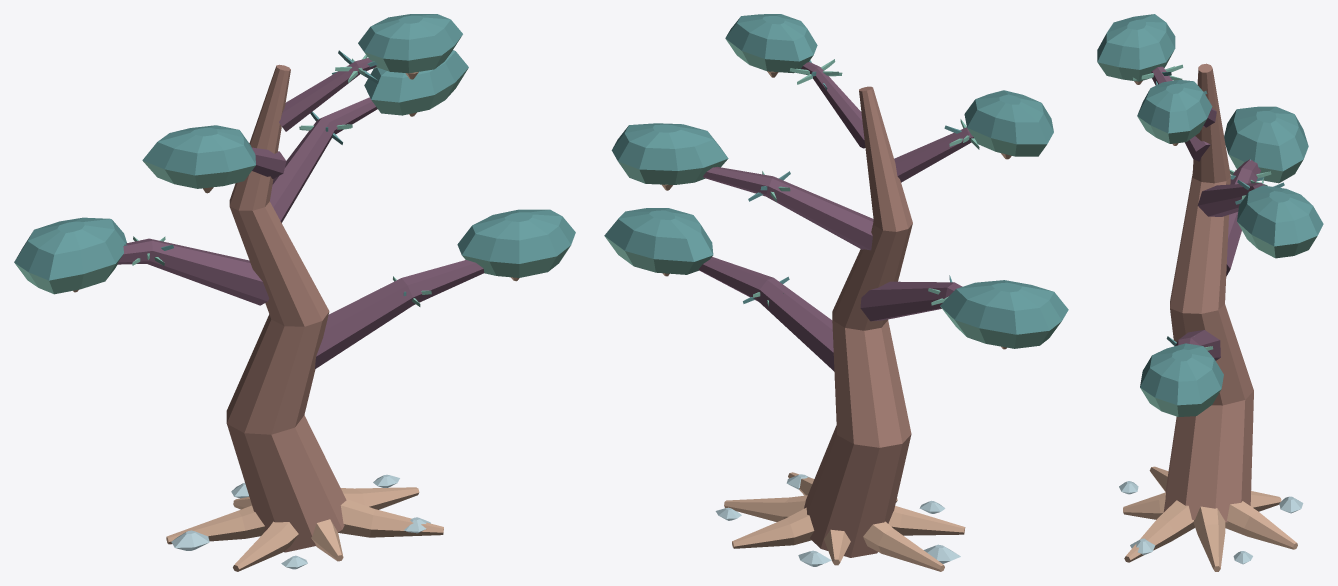
The model's file is lagoon_tree_shore_pine.glb.
The picture shows the model from 3 angles, left to right: view 1: azimuth 30°, elevation 25°; view 2: azimuth 150°, elevation 25°; view 3: azimuth 270°, elevation 25°; orthographic projection. The views are drawn at different scales.
Parts seen in each view (by area): view 1: lagoon_tree_shore_pine.001; view 2: lagoon_tree_shore_pine.001; view 3: lagoon_tree_shore_pine.001.
Part boxes in pixels (x1,y1,x2,y2): lagoon_tree_shore_pine.001: (14,14,575,571); lagoon_tree_shore_pine.001: (604,14,1068,571); lagoon_tree_shore_pine.001: (1097,14,1323,571).
Bounding box in the file's own units: 7.61 × 7.3 × 3.11.
